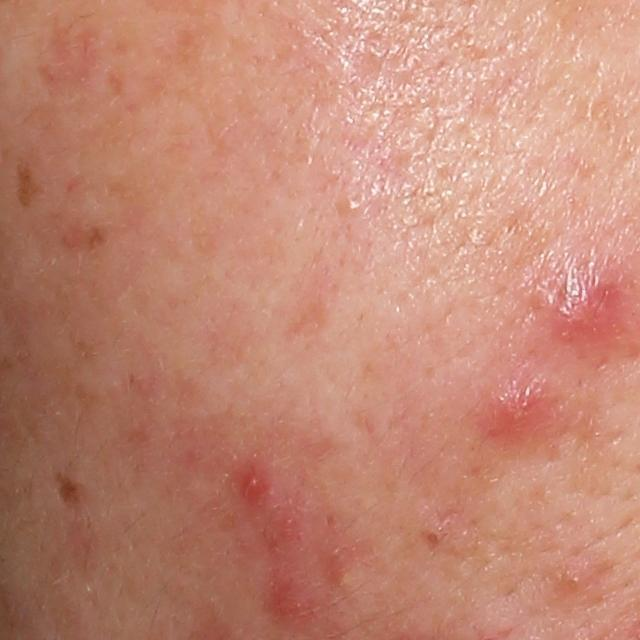comedo: (338, 200, 367, 221)
melasma: (12, 157, 53, 213)
papule: (528, 262, 625, 356), (485, 382, 555, 444), (268, 571, 317, 630), (234, 462, 270, 504)
